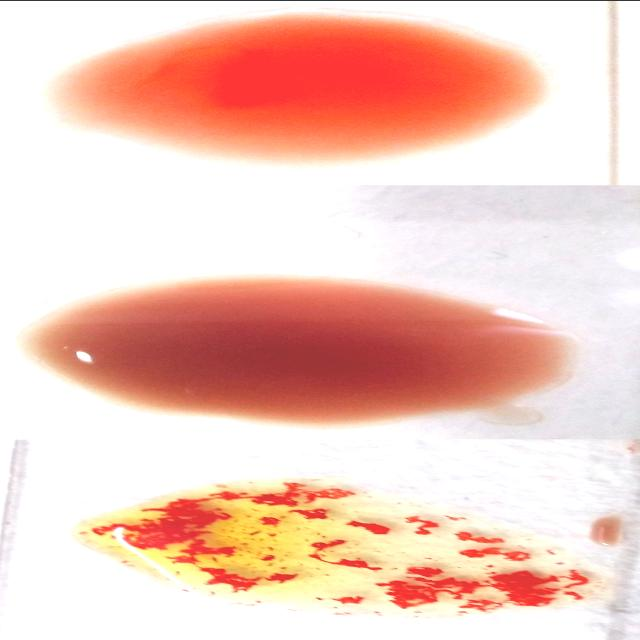B: (53, 484, 610, 615)
